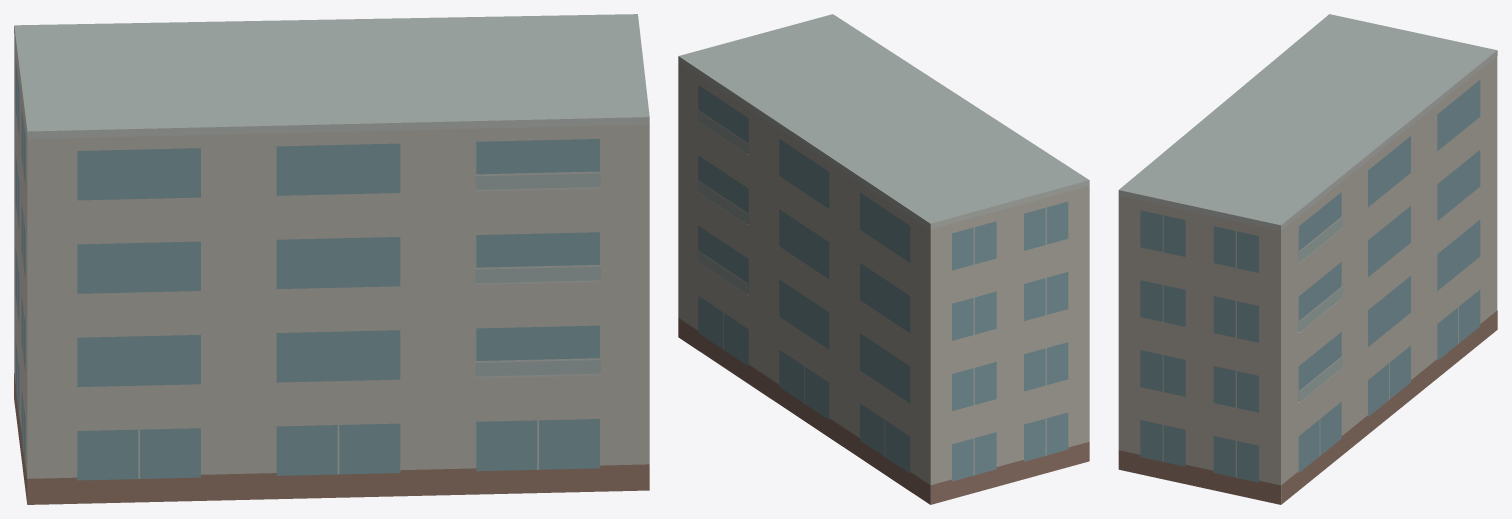
The model's file is survey-upis-32882619.glb.
3 renders of one model, left to right at view 1: azimuth 30°, elevation 25°; view 2: azimuth 150°, elevation 25°; view 3: azimuth 270°, elevation 25°, orthographic. The views are drawn at different scales.
Parts seen in each view (by area): view 1: survey-upis-32882619.tmp; view 2: survey-upis-32882619.tmp; view 3: survey-upis-32882619.tmp.
Boxes of the visible parts, x1=… form: survey-upis-32882619.tmp: x1=14, y1=14, x2=649, y2=504; survey-upis-32882619.tmp: x1=678, y1=14, x2=1089, y2=504; survey-upis-32882619.tmp: x1=1118, y1=14, x2=1497, y2=504.
Size of the model in its own units: 19.46 by 12 by 14.74.
